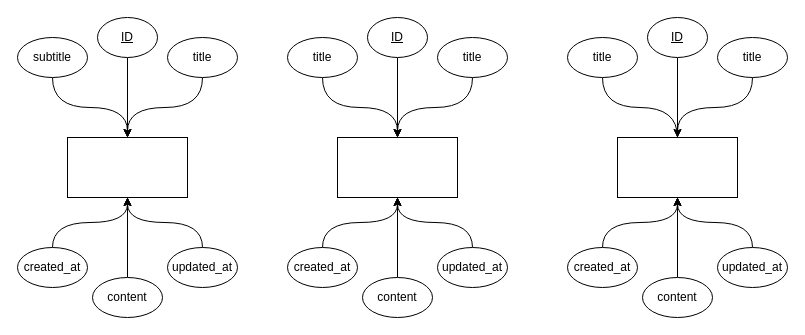
This 805x335 diagram has some shape labels left out. The box of each missing label's shape, as (x1, y1, x2, y2) in pixels:
BLOG: (336, 136, 458, 198)
PROJECT: (66, 136, 188, 198)
TRACE: (616, 136, 738, 198)
